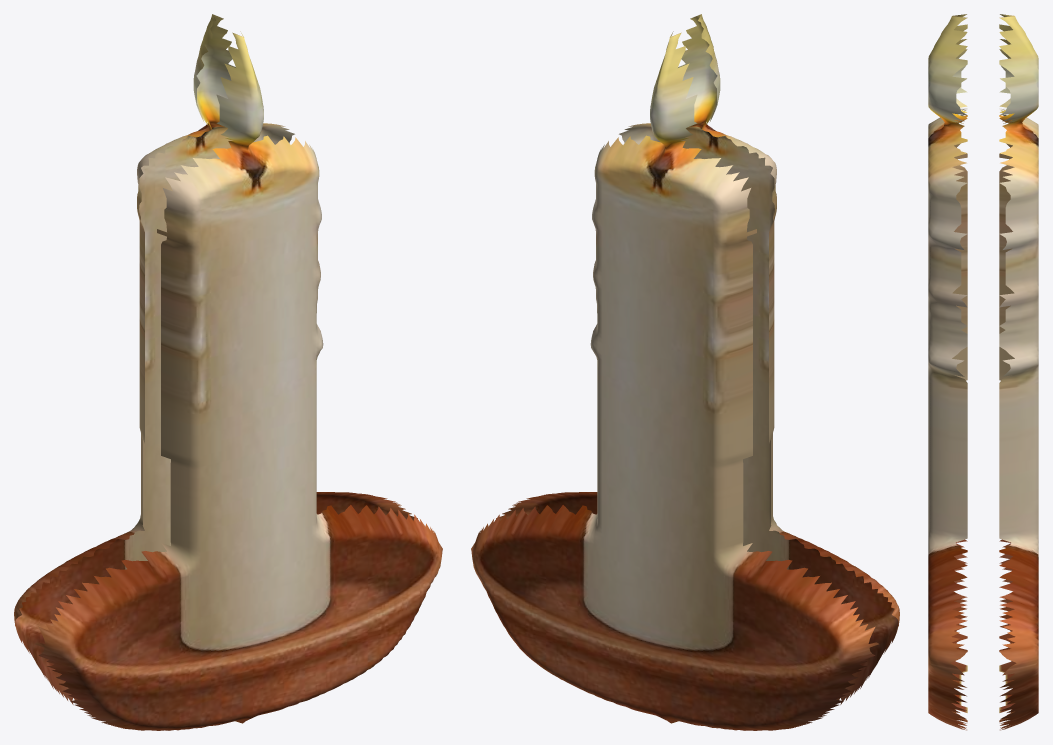
Rendered from v4-kitchen-scatter-candle.glb.
The picture shows the model from 3 angles, left to right: view 1: azimuth 30°, elevation 25°; view 2: azimuth 150°, elevation 25°; view 3: azimuth 270°, elevation 25°; orthographic projection.
Parts seen in each view (by area): view 1: v4-kitchen-scatter-candle; view 2: v4-kitchen-scatter-candle; view 3: v4-kitchen-scatter-candle.
Boxes of the visible parts, x1=… form: v4-kitchen-scatter-candle: x1=14, y1=14, x2=442, y2=730; v4-kitchen-scatter-candle: x1=471, y1=14, x2=899, y2=730; v4-kitchen-scatter-candle: x1=928, y1=14, x2=1038, y2=730.
Size of the model in its own units: 0.1485 by 0.2426 by 0.036.
1 material, 1 textured.
